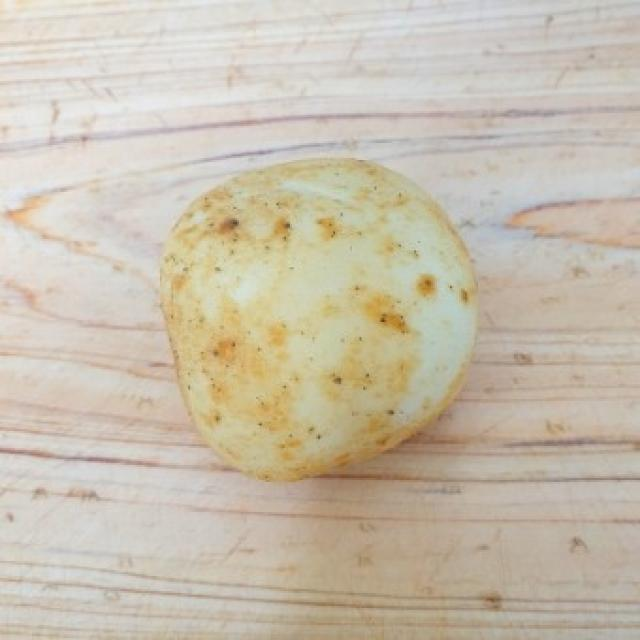potato: (160, 154, 478, 483)
